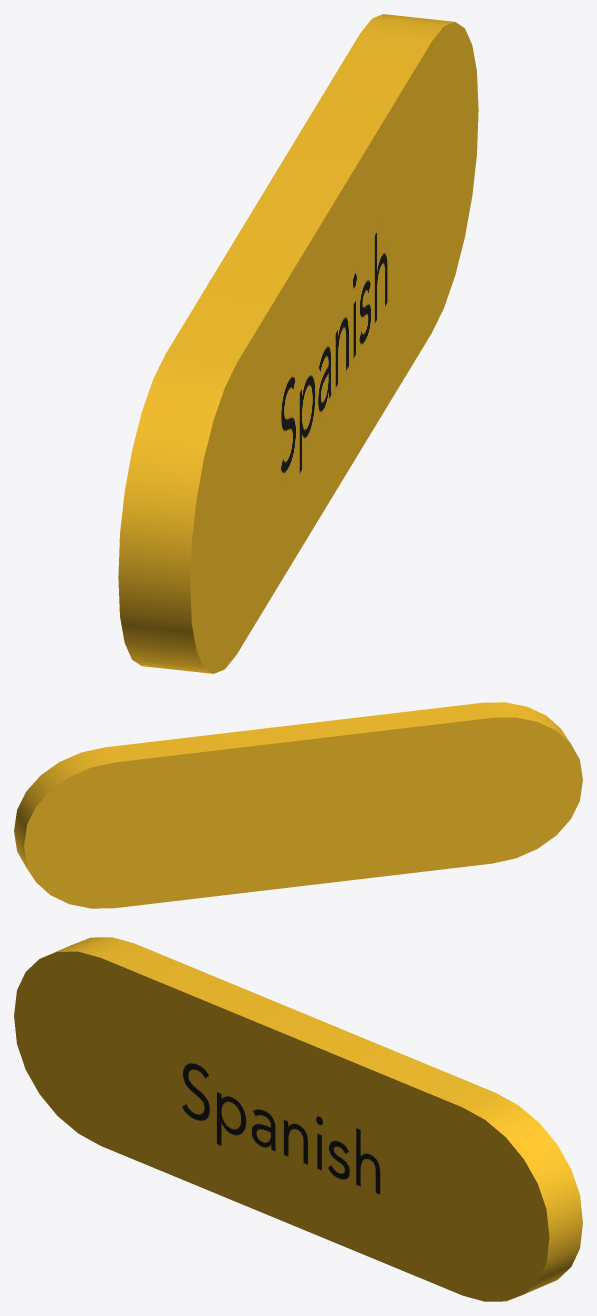
Rendered from 1860_spanish_elevation_selection.gltf.
3 views of the same model, one above another, from view 1: azimuth 30°, elevation 25°; view 2: azimuth 150°, elevation 25°; view 3: azimuth 270°, elevation 25° (orthographic). The views are drawn at different scales.
Visible parts, largest first — view 1: Spanish.002; view 2: Spanish.002; view 3: Spanish.002.
Boxes of the visible parts, x1=… form: Spanish.002: x1=118, y1=14, x2=478, y2=673; Spanish.002: x1=14, y1=702, x2=582, y2=908; Spanish.002: x1=14, y1=937, x2=582, y2=1301.
Size of the model in its own units: 0.525 by 0.1952 by 0.5351.
Materials: 1 (1 with a texture image).
